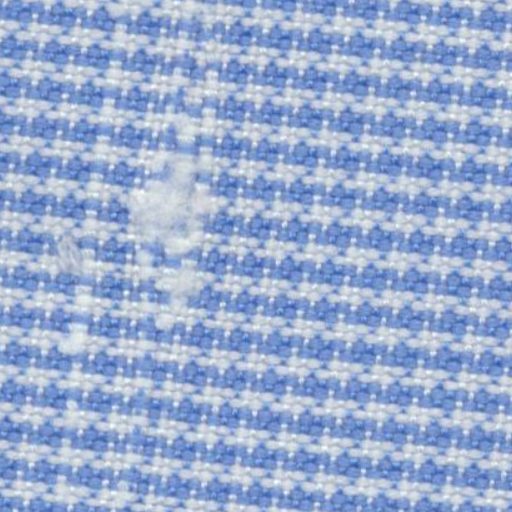MianQiu: (136, 170, 200, 246)
